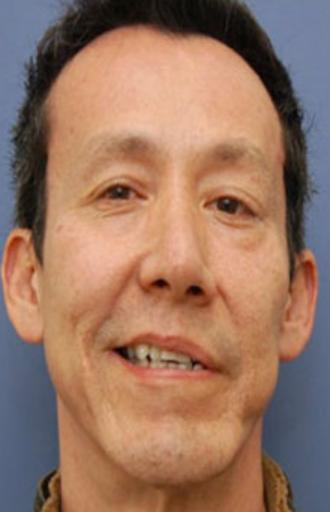left_eye: (202, 197, 258, 226)
left_lip_corner: (214, 361, 231, 383)
right_eye: (90, 186, 149, 213)
right_lip_corner: (101, 341, 122, 364)
